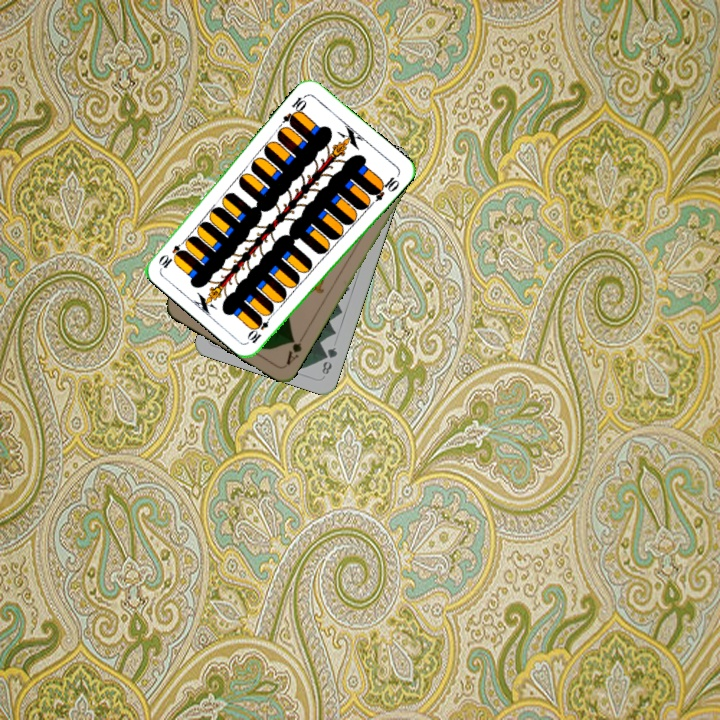E10: (245, 310, 276, 346), (279, 91, 309, 128)
G8: (318, 343, 340, 377)
GA: (282, 330, 307, 368)
